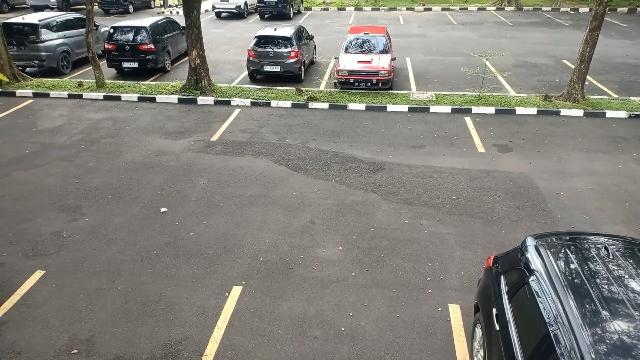empty: (227, 100, 478, 148), (1, 97, 226, 146), (500, 56, 590, 96), (414, 54, 501, 92)
occupied: (9, 18, 90, 80), (100, 24, 184, 82), (241, 40, 327, 88), (326, 51, 412, 91)
